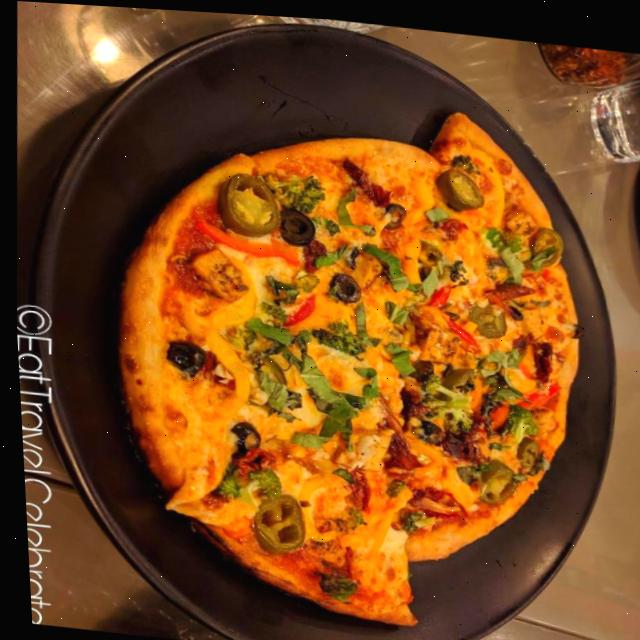black_olives: (158, 337, 207, 377), (274, 203, 314, 243), (323, 268, 364, 300), (227, 417, 258, 455), (377, 197, 405, 225), (413, 416, 438, 439), (341, 243, 357, 267)
pizza: (86, 72, 598, 640)
